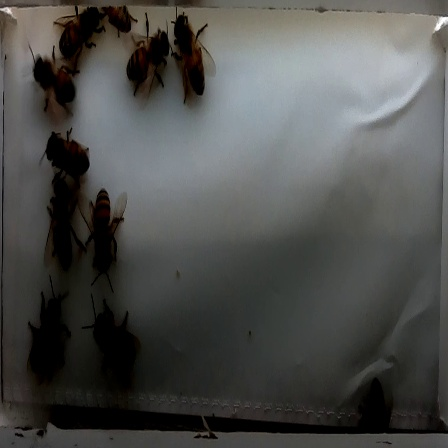bee: (81, 184, 139, 296), (77, 295, 149, 384), (21, 281, 74, 384), (167, 9, 219, 108), (15, 48, 85, 120), (123, 17, 173, 103), (35, 128, 103, 190), (48, 2, 111, 67), (39, 181, 80, 275)
